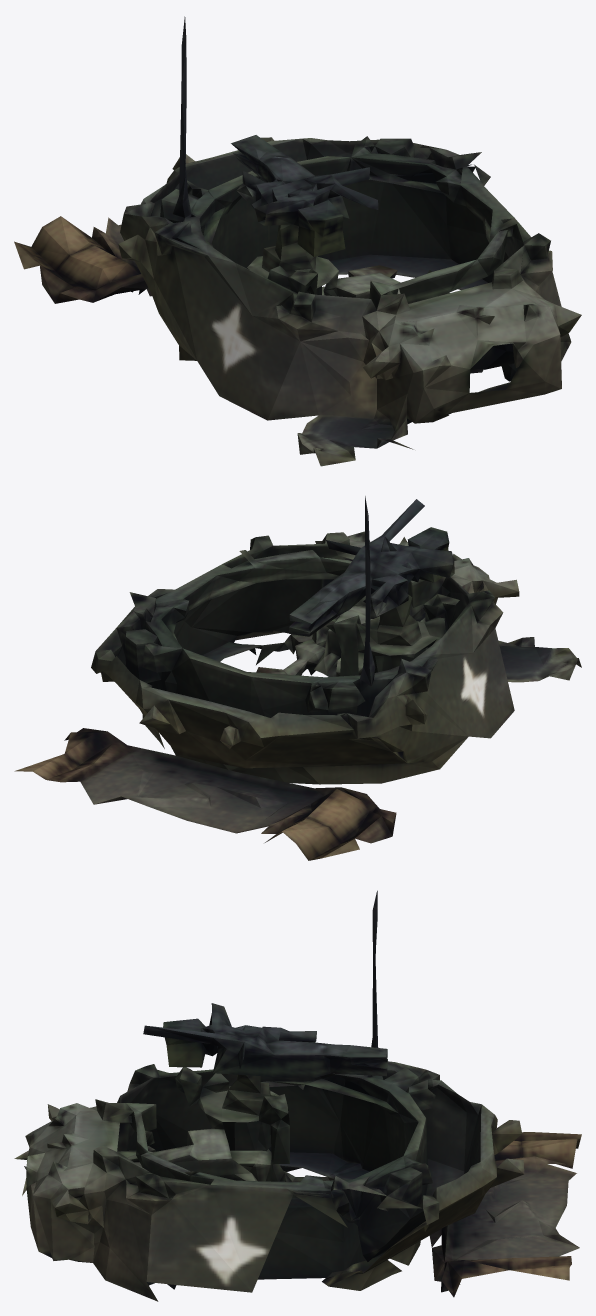
Rendered from hellcat_turret.glb.
3 views of the same model, one above another, from view 1: azimuth 30°, elevation 25°; view 2: azimuth 150°, elevation 25°; view 3: azimuth 270°, elevation 25° (orthographic). The views are drawn at different scales.
Parts seen in each view (by area): view 1: hellcat_00001_.glb; view 2: hellcat_00001_.glb; view 3: hellcat_00001_.glb.
Boxes of the visible parts, left/top/right/bottom form: hellcat_00001_.glb: left=14, top=16, right=581, bottom=466; hellcat_00001_.glb: left=14, top=496, right=581, bottom=860; hellcat_00001_.glb: left=14, top=890, right=581, bottom=1301.
Size of the model in its own units: 2.32 by 1.95 by 3.39.
1 material, 1 textured.
